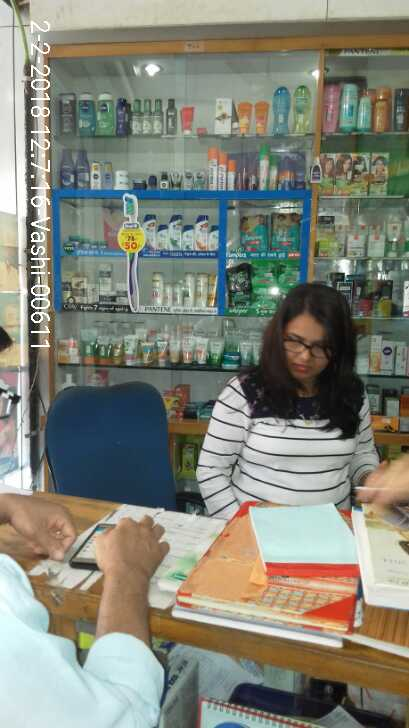beauty: (167, 214, 182, 249), (97, 262, 113, 294), (143, 214, 157, 249), (194, 215, 208, 250), (163, 282, 182, 307), (71, 276, 88, 303), (183, 272, 196, 307), (151, 271, 163, 306), (196, 274, 208, 307), (114, 284, 129, 304), (182, 225, 193, 249), (157, 224, 167, 248), (209, 225, 219, 249)
pharmacy: (237, 216, 270, 252), (271, 212, 300, 252), (251, 258, 278, 292), (226, 264, 251, 292), (82, 238, 107, 247)
